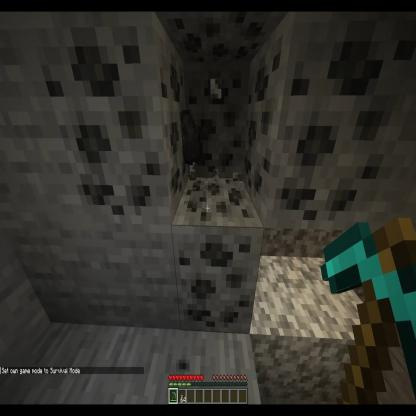coal ore: (241, 11, 410, 252), (31, 17, 188, 234), (167, 171, 264, 343), (146, 0, 290, 65)
